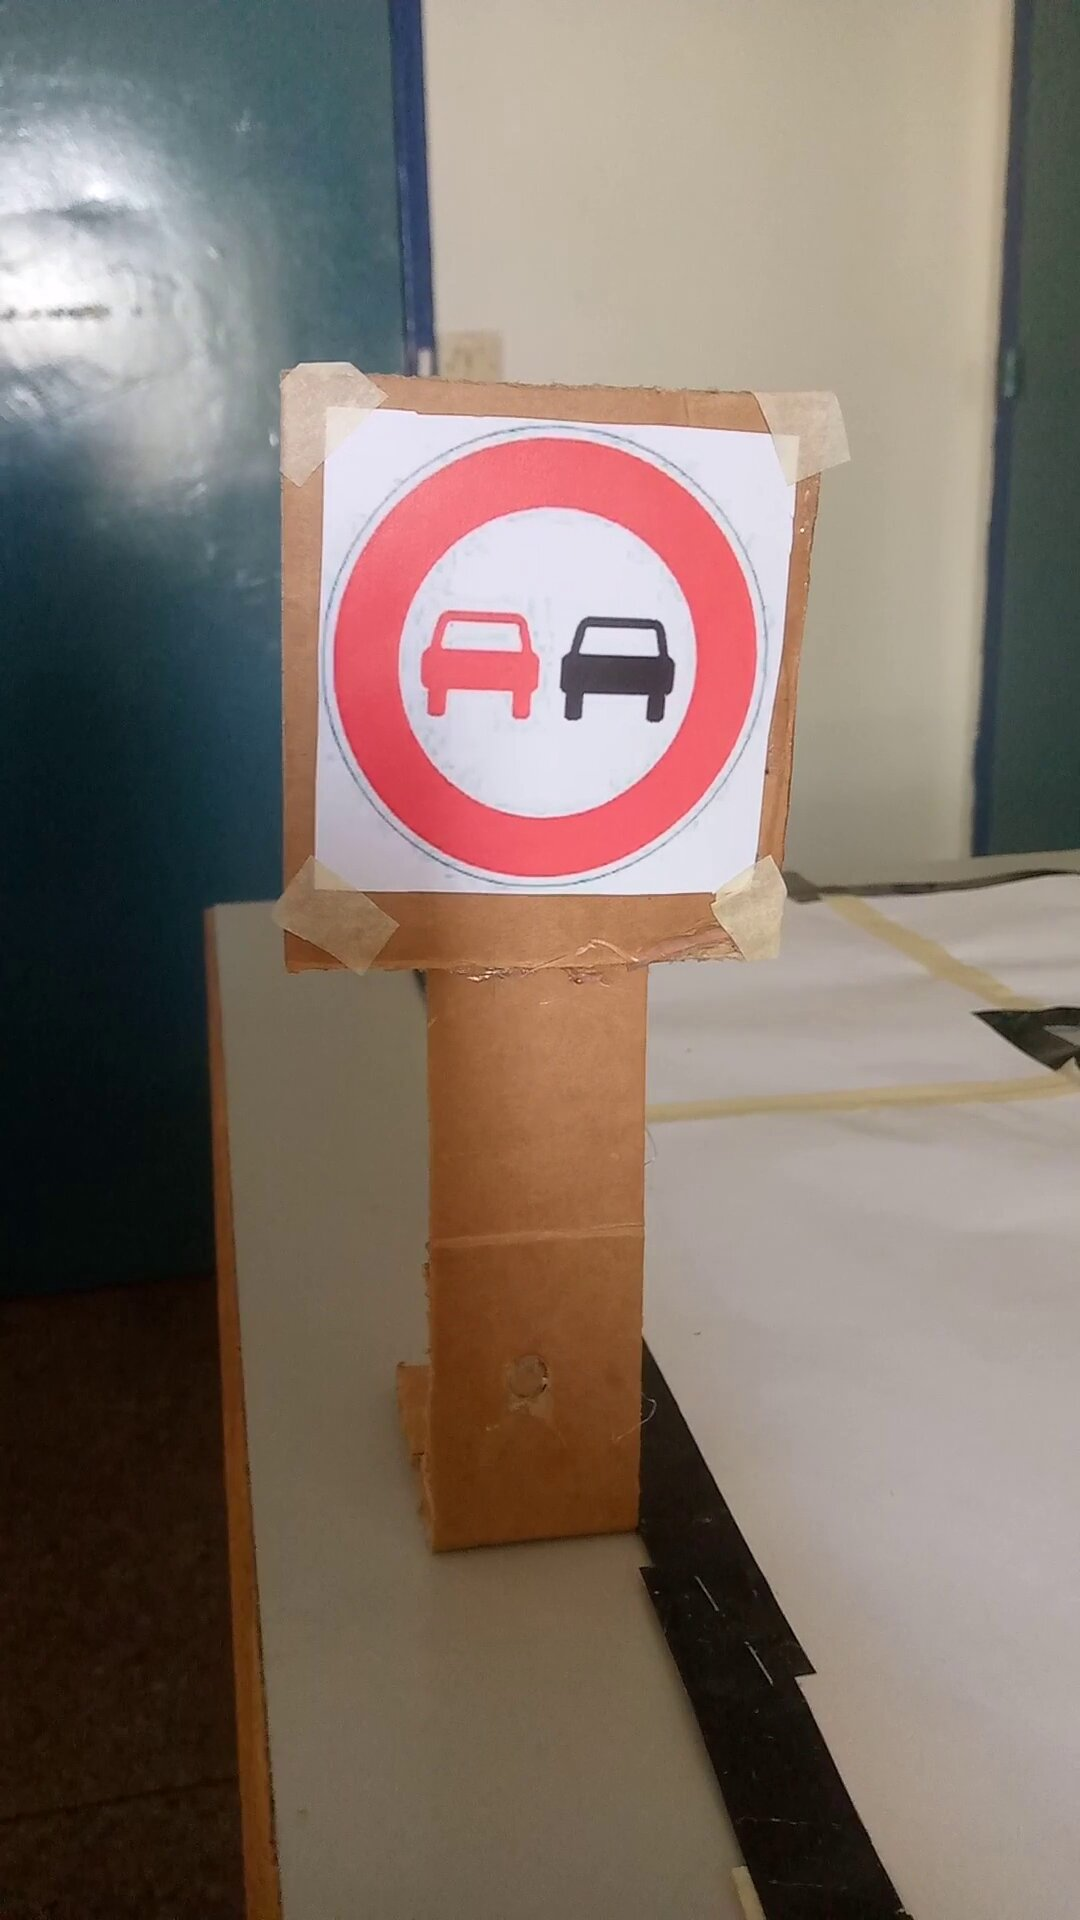panel100: (313, 423, 773, 926)
